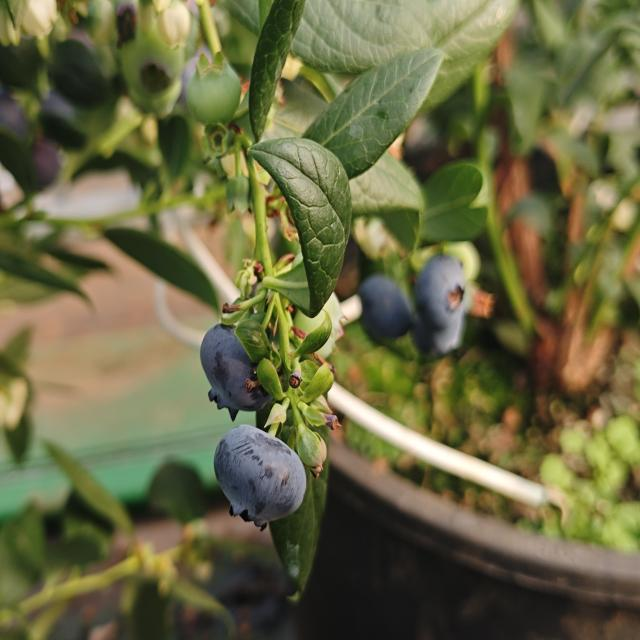ripe: (202, 419, 314, 532), (189, 317, 276, 419), (413, 243, 477, 358), (358, 272, 418, 351)
